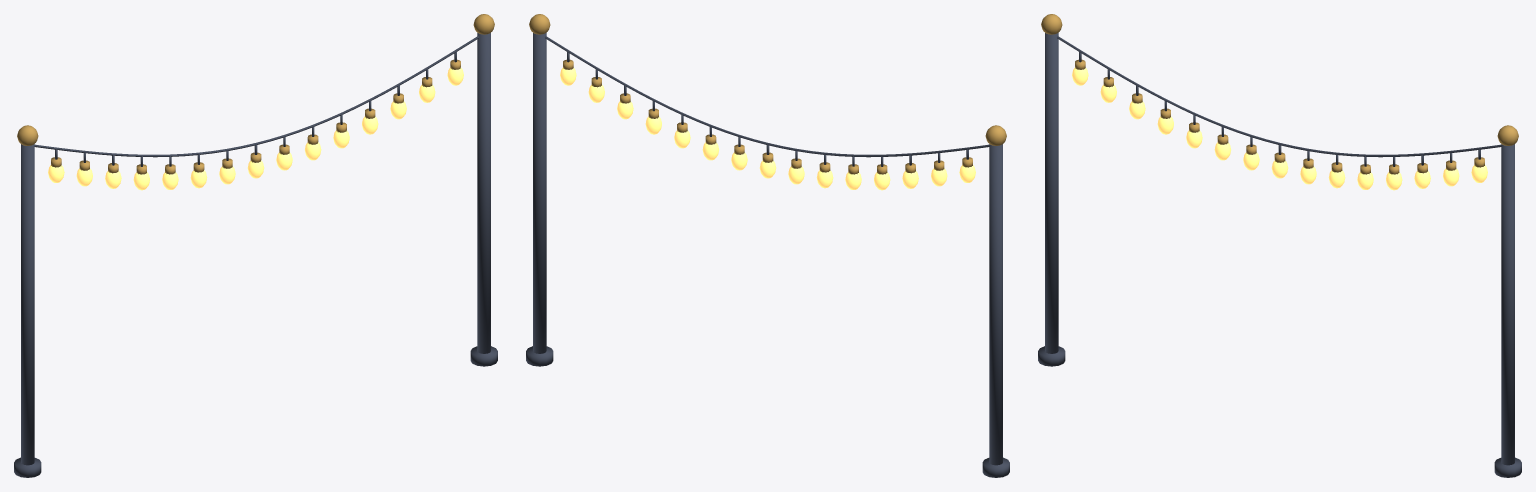
File: festoon.glb
3 views of the same model, side by side, from view 1: azimuth 30°, elevation 25°; view 2: azimuth 150°, elevation 25°; view 3: azimuth 330°, elevation 25° (orthographic).
Parts seen in each view (by area): view 1: Festoon_iron_post, Festoon_iron_post.001, thin_Festoon_sagging_wire; view 2: Festoon_iron_post, Festoon_iron_post.001, thin_Festoon_sagging_wire; view 3: Festoon_iron_post.001, Festoon_iron_post, thin_Festoon_sagging_wire.
Part boxes in pixels (left/top/right/bottom): Festoon_iron_post: left=21, top=144, right=34, bottom=465; Festoon_iron_post.001: left=477, top=33, right=490, bottom=353; thin_Festoon_sagging_wire: left=34, top=36, right=478, bottom=157; Festoon_iron_post: left=989, top=144, right=1002, bottom=465; Festoon_iron_post.001: left=533, top=33, right=546, bottom=353; thin_Festoon_sagging_wire: left=545, top=36, right=989, bottom=157; Festoon_iron_post.001: left=1501, top=144, right=1514, bottom=465; Festoon_iron_post: left=1045, top=33, right=1058, bottom=353; thin_Festoon_sagging_wire: left=1057, top=36, right=1501, bottom=157.
Bounding box in the file's own units: 5.68 × 3.91 × 0.28.
